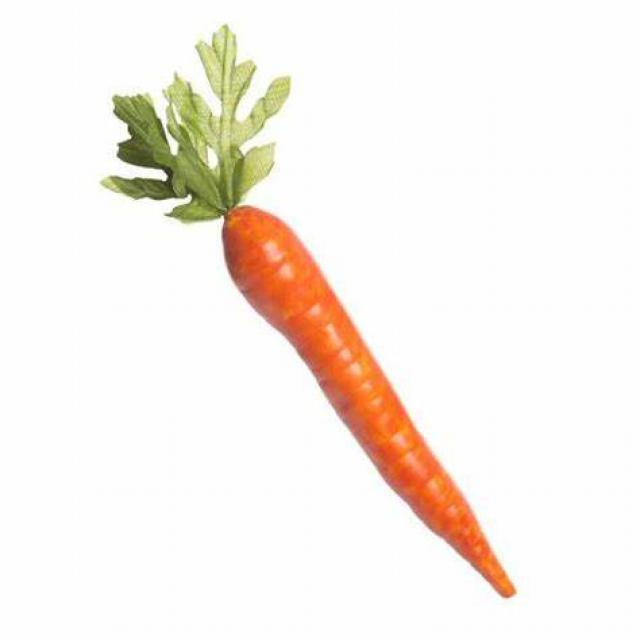Carrot: (107, 46, 510, 601)
